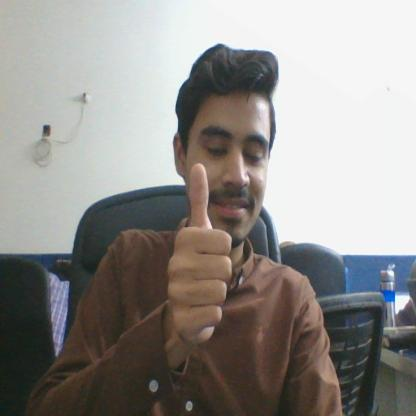thumbs-up: (169, 160, 240, 348)
